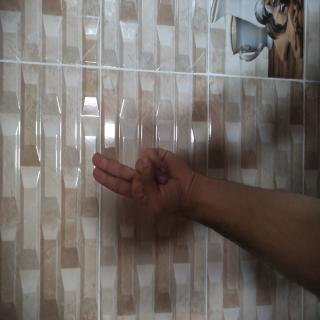TA: (69, 114, 134, 256)
